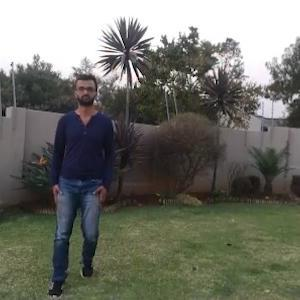follow: (40, 51, 121, 298)
